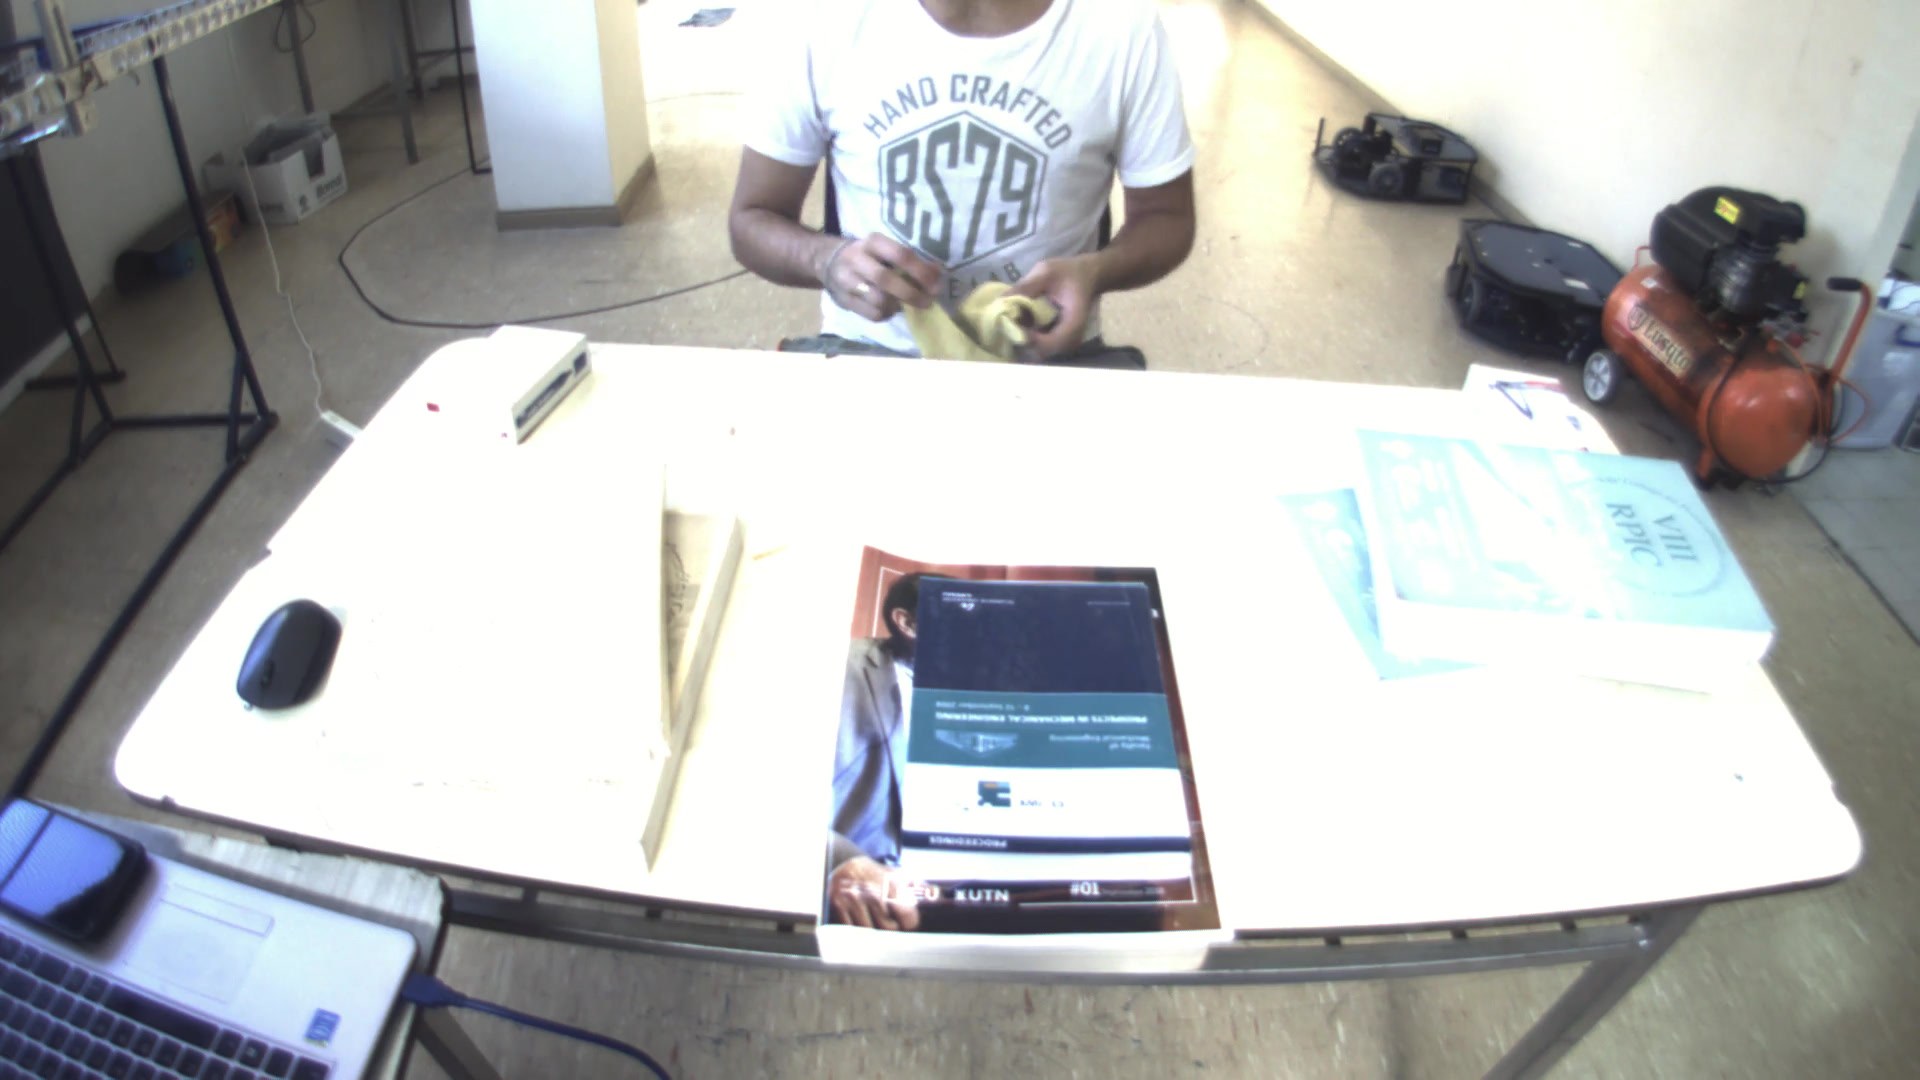hand: (986, 256, 1105, 372), (812, 219, 944, 320)
